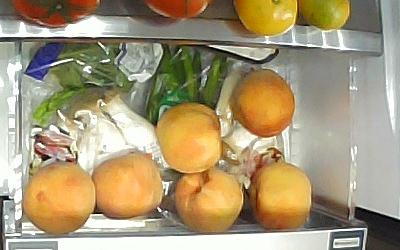peach: (23, 160, 96, 235), (154, 103, 224, 175), (249, 154, 313, 231), (92, 151, 166, 217), (171, 167, 244, 233), (230, 68, 299, 137)
